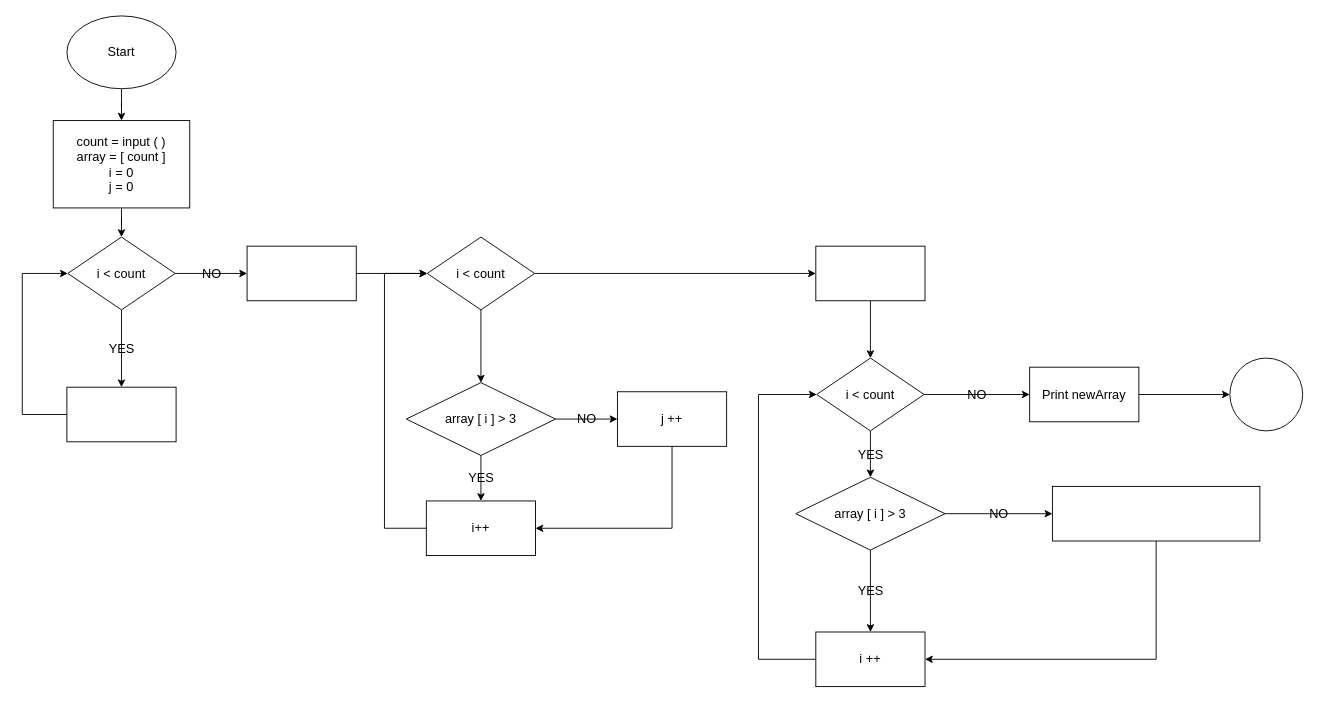
Some shapes in this 1319 by 703 pixel diagram are drawn without their labels. The box of each missing label's shape, as (x1, y1, x2, y2) in pixels:
array [i] = input ( ) i++: (66, 386, 176, 442)
End: (1229, 357, 1303, 431)
i = 0: (246, 245, 356, 301)
newArray = [ j ] i = 0 j = 0: (815, 245, 925, 301)
newArray [ j ] = array [ i ] j++: (1052, 485, 1260, 541)
